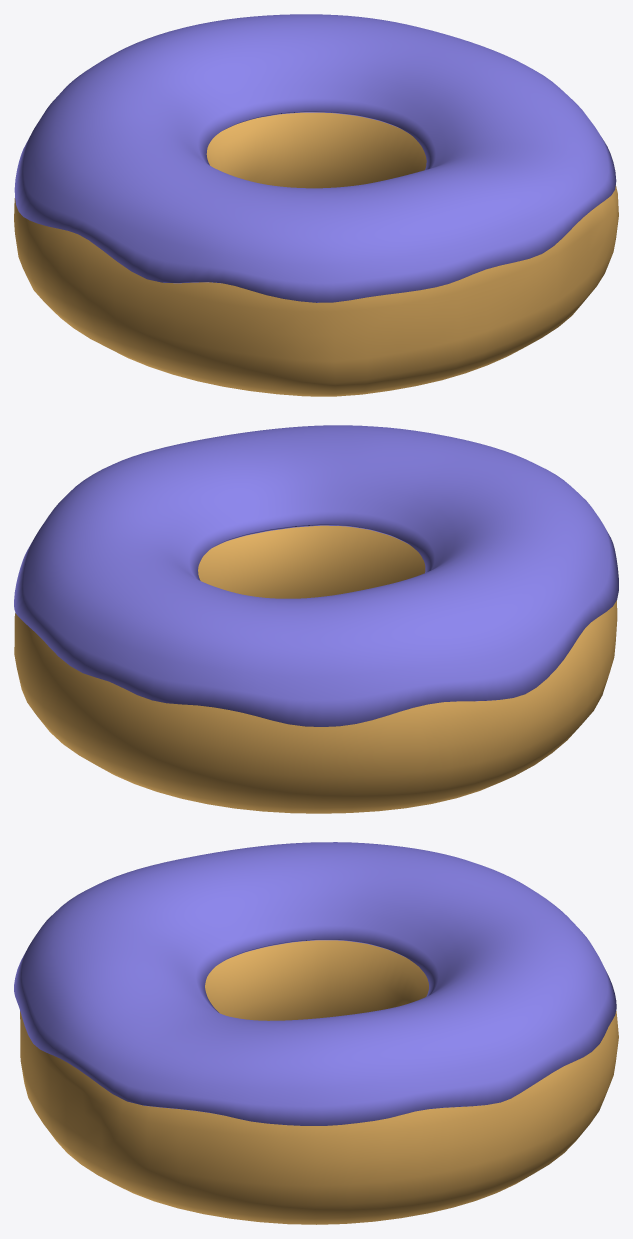
3 views of the same model, one above another, from view 1: azimuth 30°, elevation 25°; view 2: azimuth 150°, elevation 25°; view 3: azimuth 270°, elevation 25° (orthographic). The views are drawn at different scales.
Parts seen in each view (by area): view 1: Object_90; view 2: Object_90; view 3: Object_90.
Part boxes in pixels (bbox=[...]): Object_90: bbox=[14, 14, 618, 396]; Object_90: bbox=[14, 425, 618, 813]; Object_90: bbox=[14, 842, 618, 1224].
Bounding box in the file's own units: 59.11 × 21.49 × 59.62.
